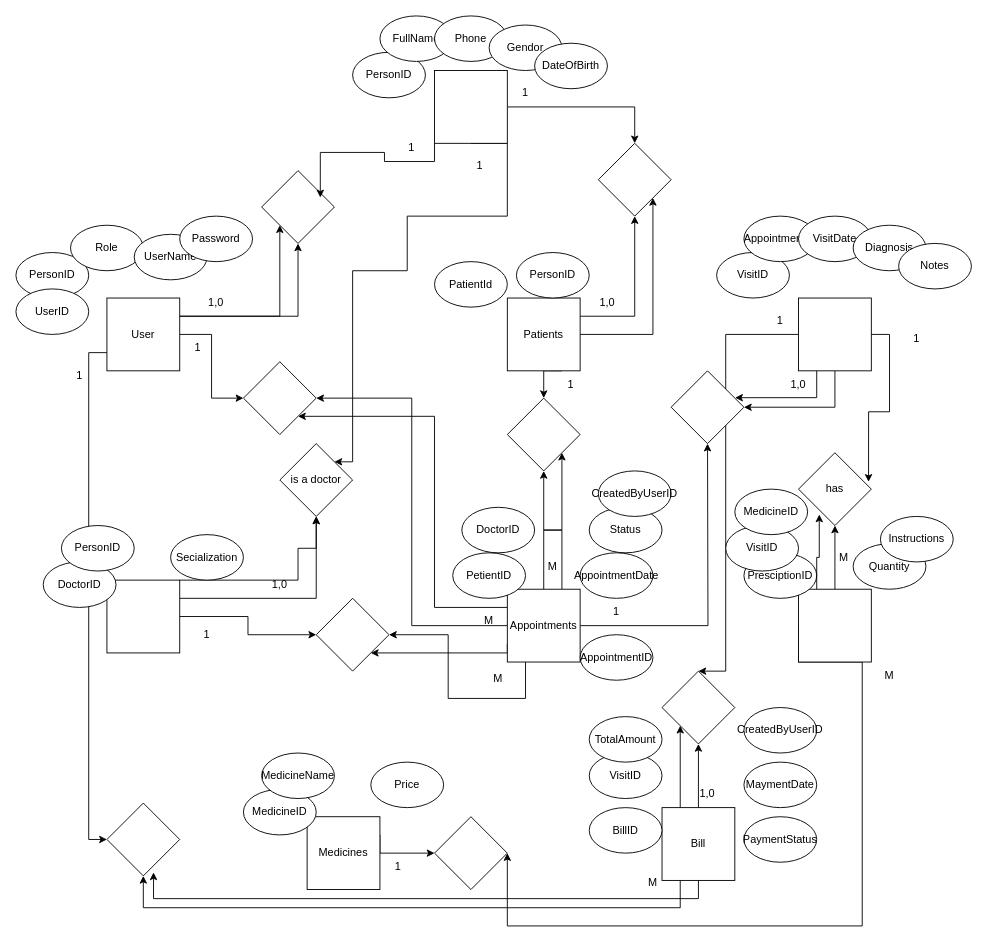
The diagram is 987 pixels wide and 949 high, and some of its shapes have lost their labels. Each missing label, with the centre of its shape:
"Created by" belongs at point (143, 839).
"creates" belongs at point (279, 398).
"Doctors" belongs at point (143, 616).
"generates" belongs at point (698, 707).
"has account" belongs at point (297, 206).
"has appointments" belongs at point (352, 634).
"is a patient" belongs at point (634, 179).
"medicine in prescription" belongs at point (470, 853).
"patient books appointment" belongs at point (543, 434).
"People" belongs at point (470, 106).
"Prescriptions" belongs at point (834, 625).
"results in" belongs at point (707, 407).
"Visits" belongs at point (834, 334).
